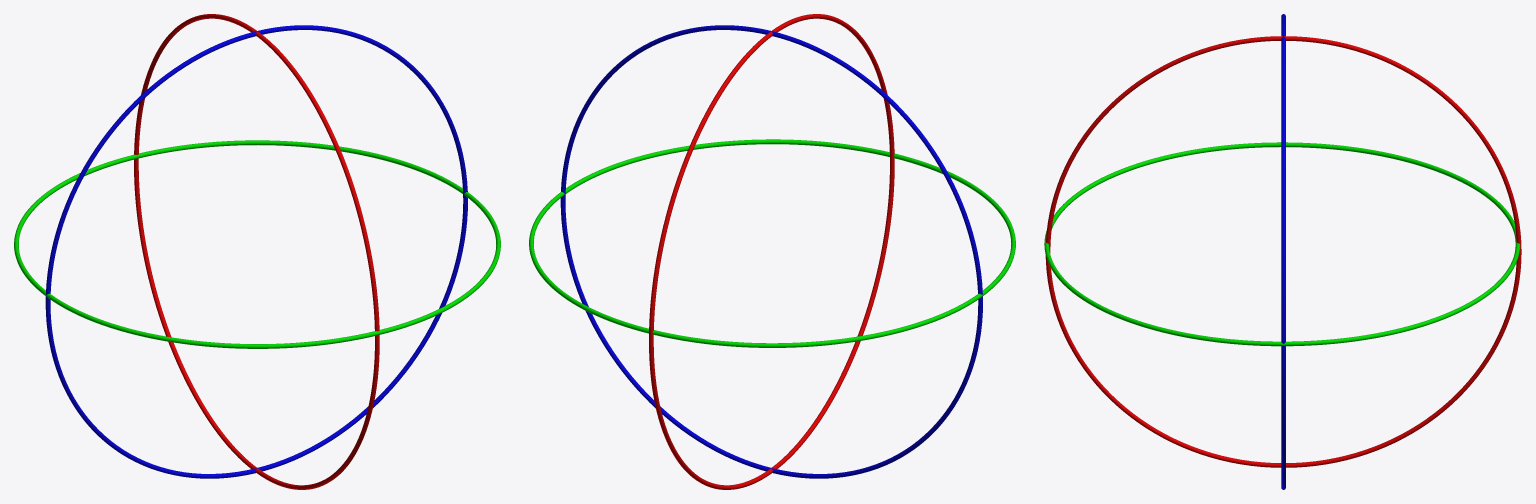
File: Bg_gizRotate.fbx
3 renders of one model, left to right at view 1: azimuth 30°, elevation 25°; view 2: azimuth 150°, elevation 25°; view 3: azimuth 270°, elevation 25°, orthographic. The views are drawn at different scales.
Parts seen in each view (by area): view 1: bg_chaplin01_mdl_GizmoRotation; view 2: bg_chaplin01_mdl_GizmoRotation; view 3: bg_chaplin01_mdl_GizmoRotation.
Boxes of the visible parts, x1,y1,x2,y2 form: bg_chaplin01_mdl_GizmoRotation: (14,14,500,489); bg_chaplin01_mdl_GizmoRotation: (529,14,1015,489); bg_chaplin01_mdl_GizmoRotation: (1044,14,1521,489).
Size of the model in its own units: 1.01 by 1.01 by 1.01.
